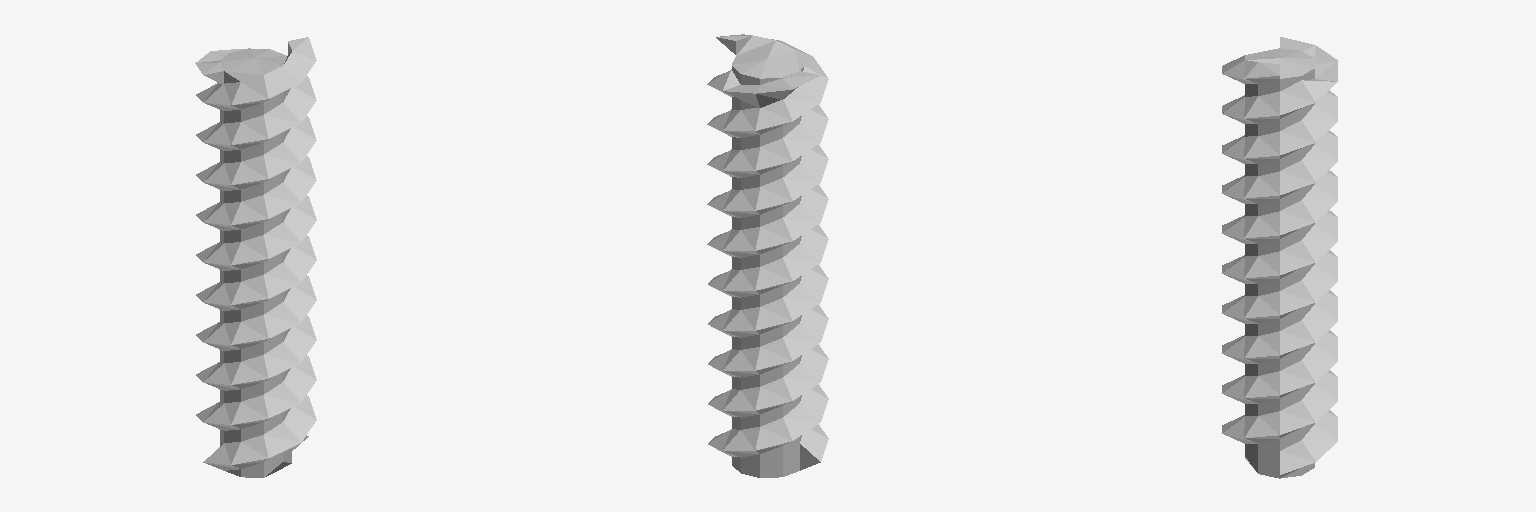
Rendered from fusilli pasta.obj.
The picture shows the model from 3 angles: view 1: azimuth 30°, elevation 25°; view 2: azimuth 150°, elevation 25°; view 3: azimuth 270°, elevation 25°; orthographic projection.
Size of the model in its own units: 0.9583 by 3.58 by 0.9114.